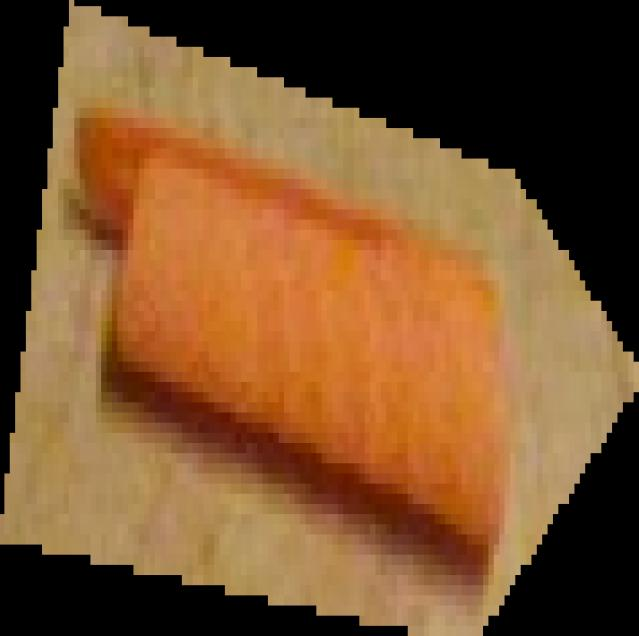orange: (0, 0, 639, 636)
